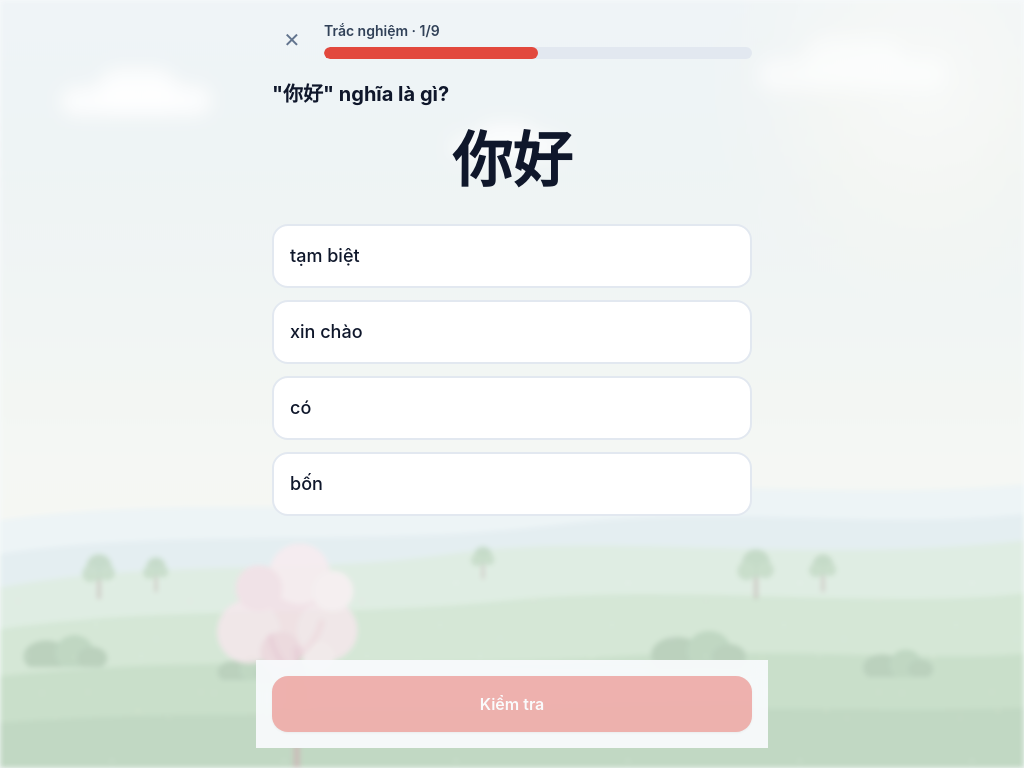
Test: Bài tập › báo sai và chỉ ra đáp án đúng khi chọn nhầm
This screenshot has width=1024, height=768.
Click the button "tạm biệt": (325, 256) [272,224,752,288]
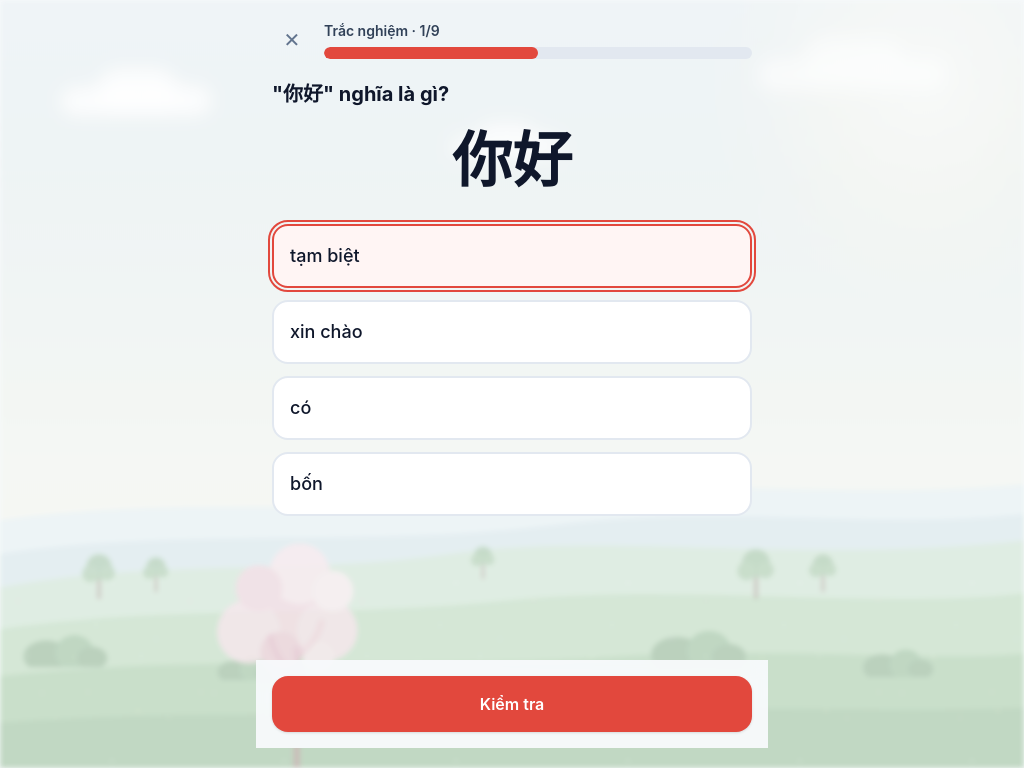
Click the button "Kiểm tra": (512, 704) [272,676,752,732]
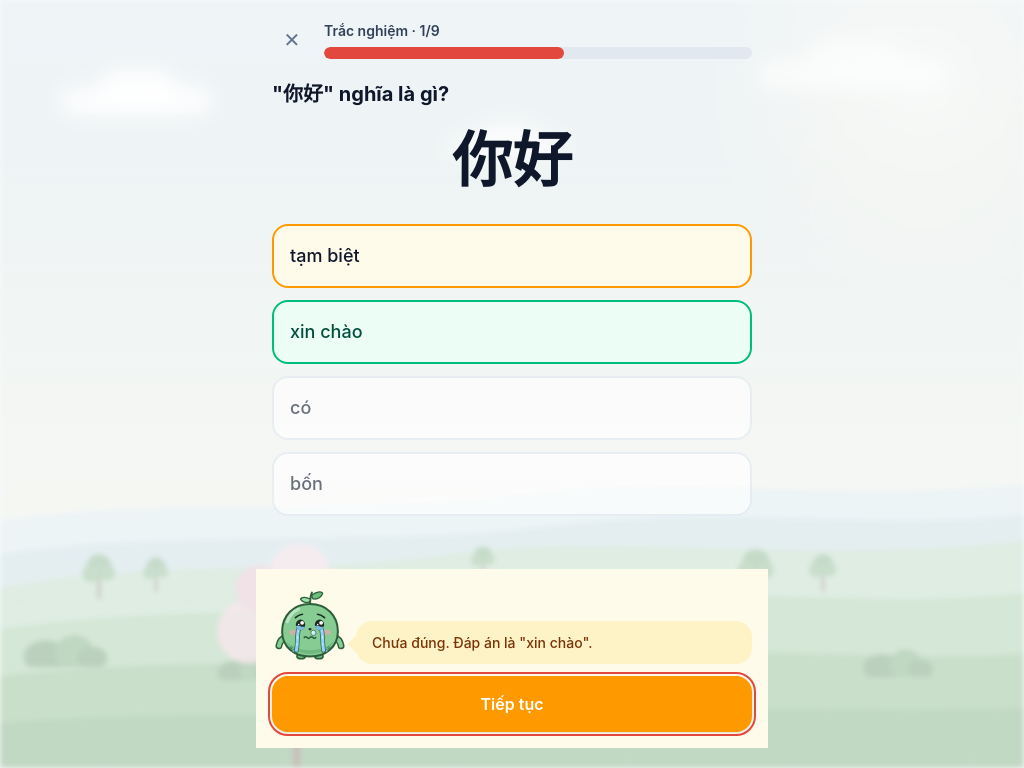
Check: the message shows "Chưa đúng", box [372,634,453,651]
Check: the message shows "xin chào", box [526,634,582,651]
